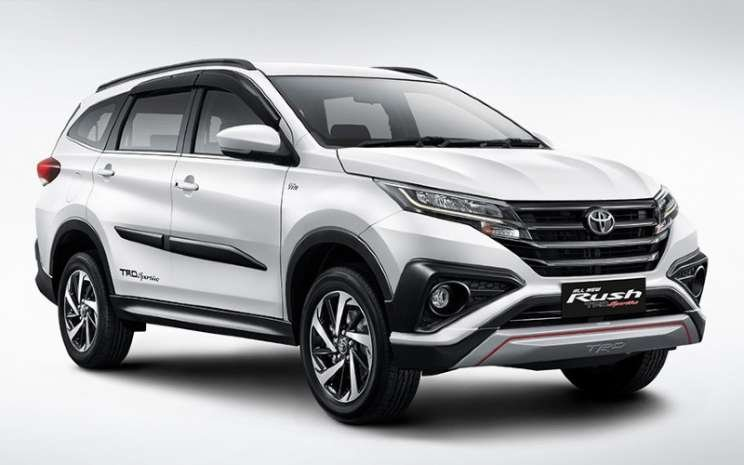mobil: (24, 51, 721, 438)
